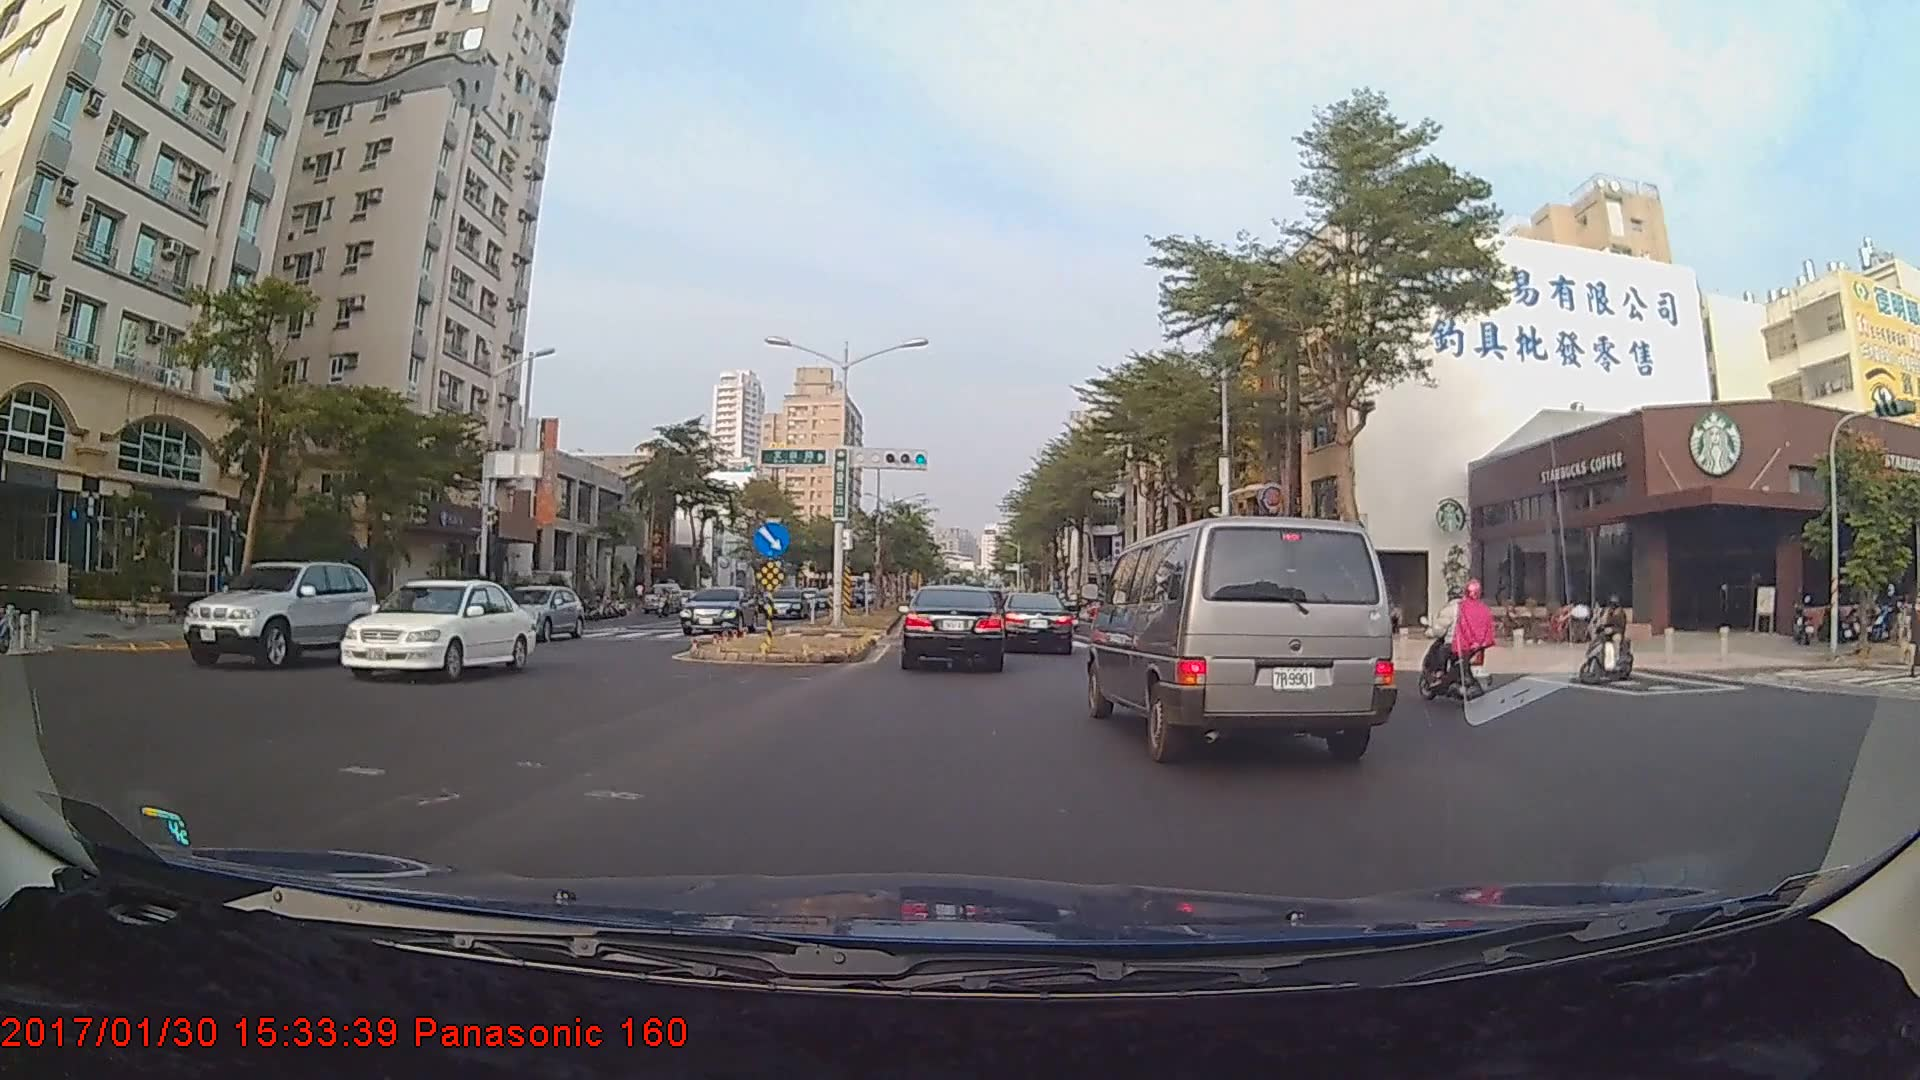rider: (1419, 567, 1503, 698), (1580, 588, 1648, 683)
vehicle: (1091, 510, 1390, 763), (181, 558, 383, 669), (338, 577, 538, 680), (900, 584, 1007, 672), (480, 584, 585, 642), (1000, 590, 1075, 655), (679, 584, 756, 634), (761, 587, 811, 620)
